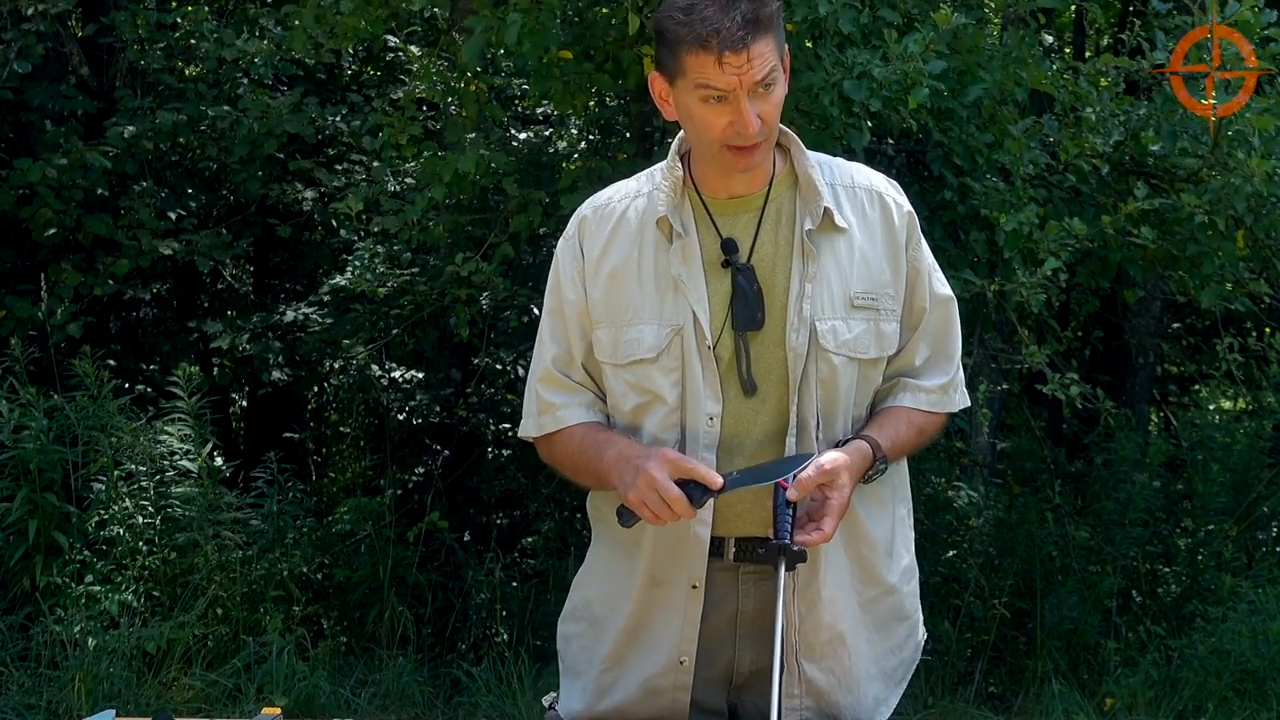knife: (610, 436, 824, 530)
